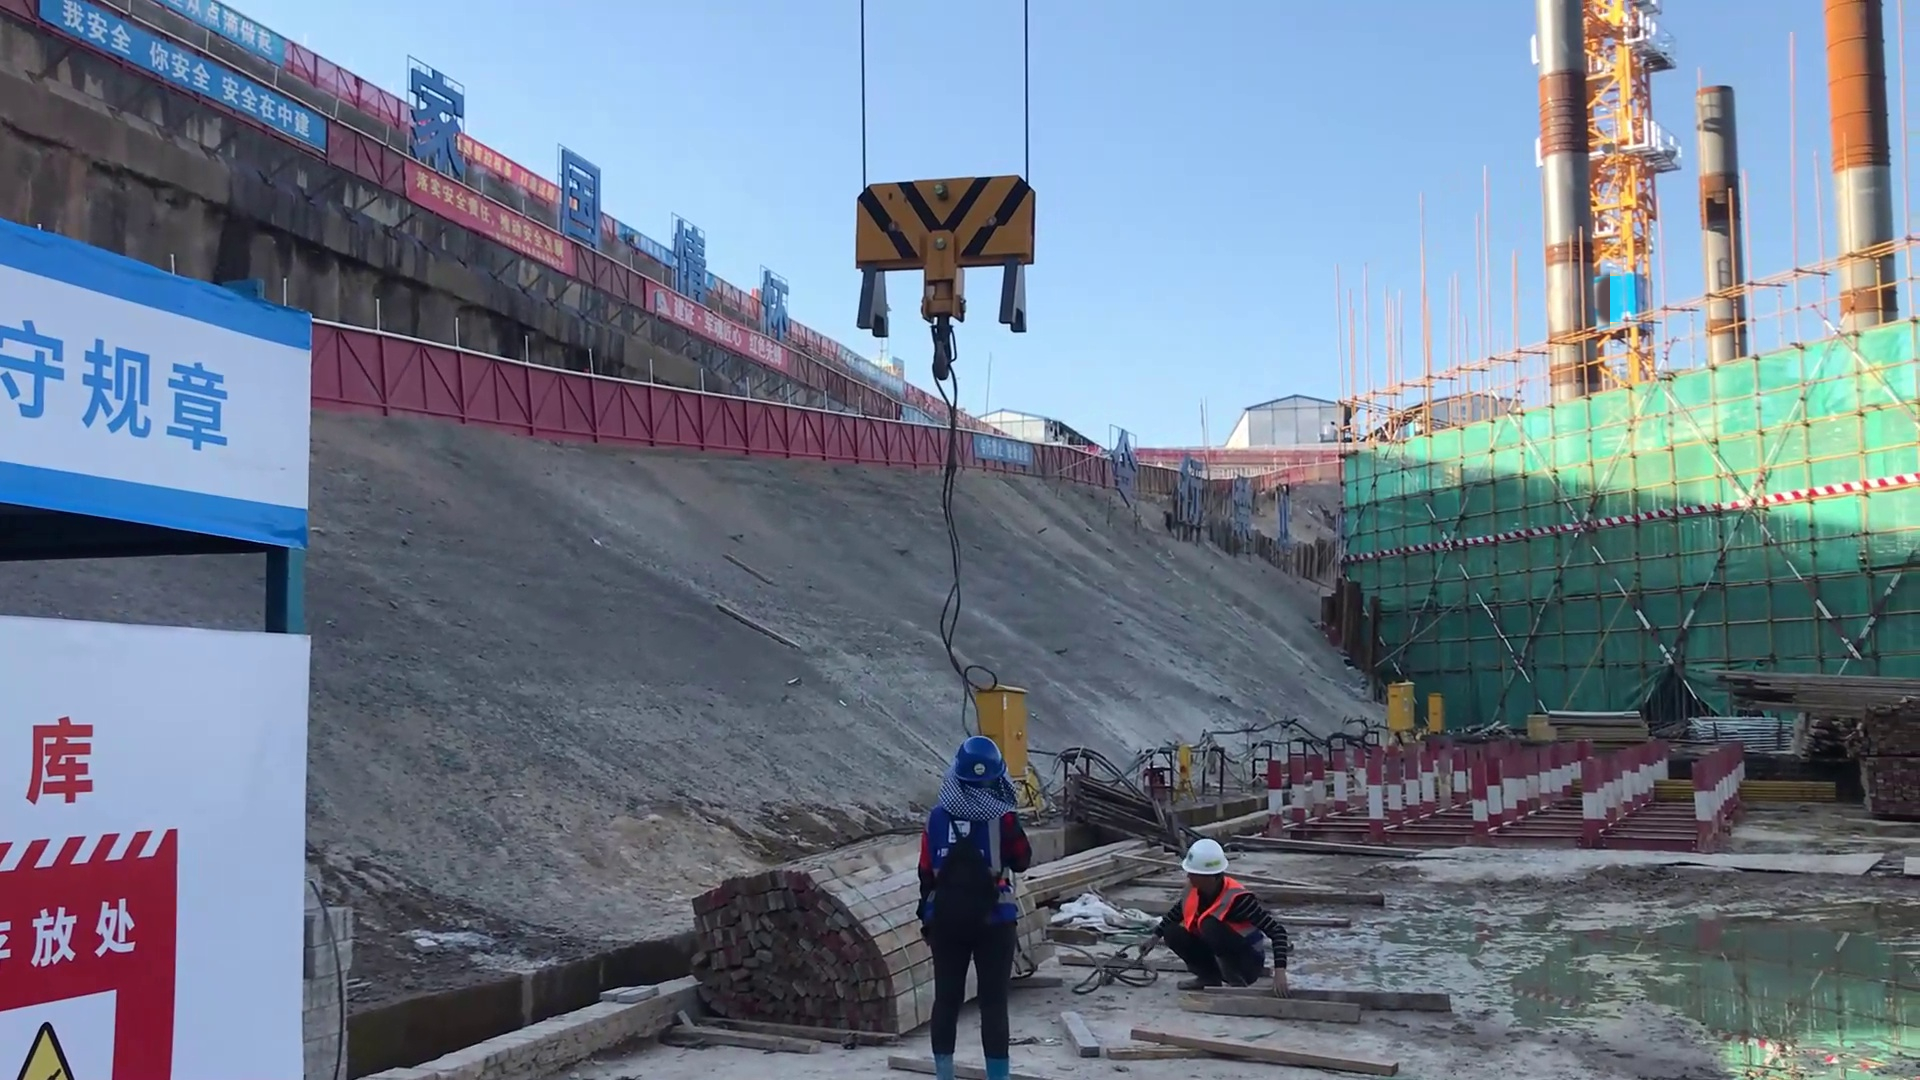ebox: (970, 672, 1032, 779), (1375, 664, 1422, 739), (1426, 693, 1448, 741)
fence: (334, 327, 810, 465), (803, 404, 1111, 479)
helmet: (933, 741, 1015, 794), (1175, 837, 1229, 878)
hook: (857, 159, 1038, 335)
person: (908, 737, 1026, 1080), (1149, 834, 1290, 993)
slogan: (25, 1, 336, 161), (1, 302, 247, 471), (401, 165, 641, 319), (8, 949, 130, 1080)
wood: (693, 848, 906, 1045), (1722, 661, 1920, 726)
